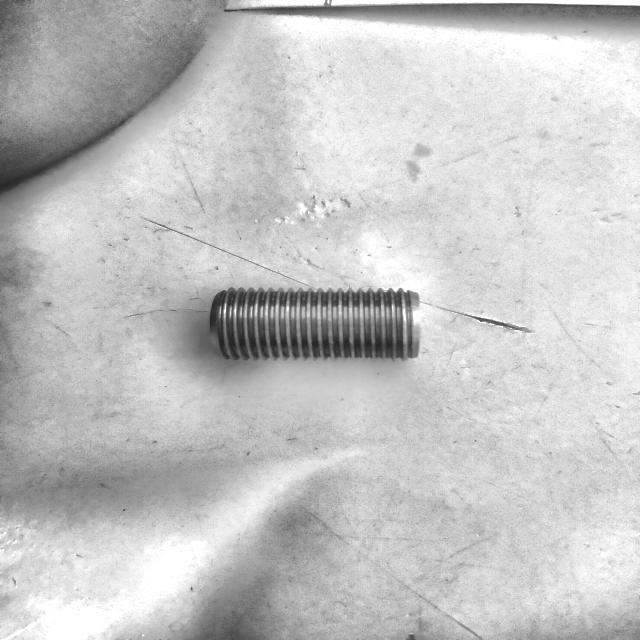Normal: (208, 285, 424, 366)
